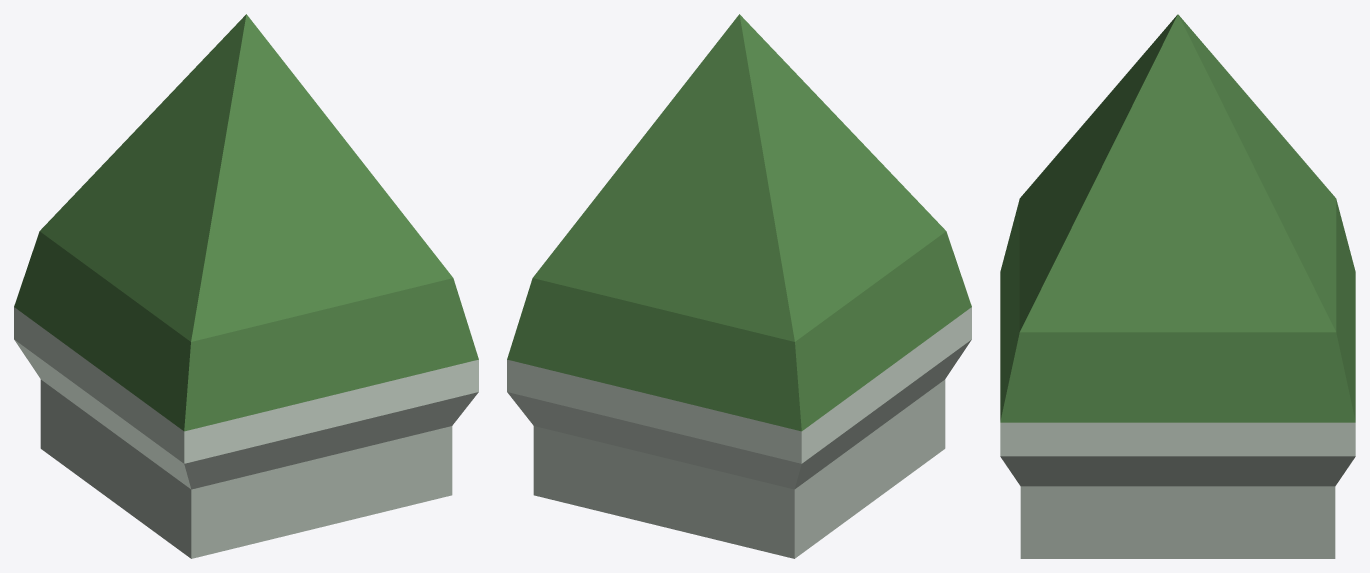
Rendered from tile_052.fbx.
3 renders of one model, left to right at view 1: azimuth 30°, elevation 25°; view 2: azimuth 150°, elevation 25°; view 3: azimuth 270°, elevation 25°, orthographic. The views are drawn at different scales.
Visible parts, largest first — view 1: tile_052; view 2: tile_052; view 3: tile_052.
Part boxes in pixels (box(x1,y1,x2,y2)): tile_052: box(14, 14, 478, 558); tile_052: box(507, 14, 971, 558); tile_052: box(1000, 14, 1355, 558).
Size of the model in its own units: 6.67 by 9.9 by 6.67.
